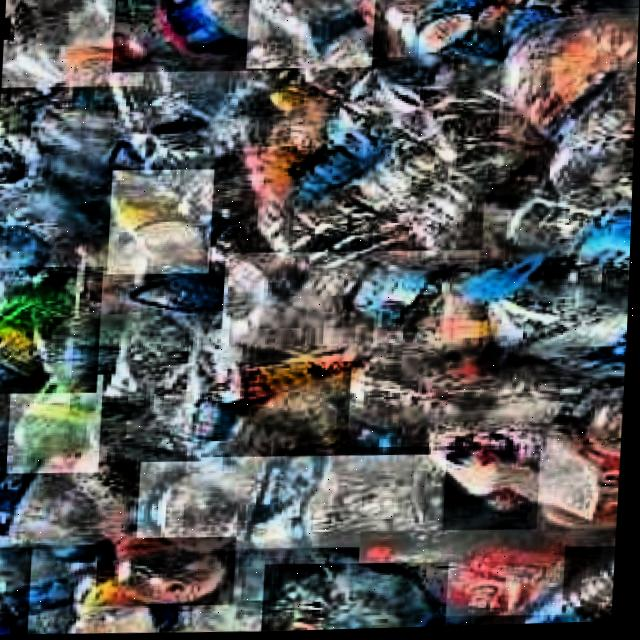plastic: (139, 451, 450, 555), (223, 248, 484, 368), (350, 344, 629, 455), (494, 8, 639, 215), (92, 261, 213, 464), (472, 257, 632, 400), (361, 527, 570, 622), (451, 523, 620, 629), (0, 440, 141, 551), (539, 392, 627, 551), (112, 0, 299, 74), (0, 263, 105, 394), (265, 560, 452, 633), (481, 200, 634, 285), (1, 0, 148, 88), (108, 167, 215, 276), (99, 535, 240, 608), (9, 372, 106, 474), (246, 0, 375, 71), (0, 545, 38, 635), (0, 138, 27, 182)
